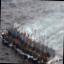fishing boat: (0, 21, 18, 45), (40, 41, 57, 64), (18, 28, 30, 52), (30, 36, 40, 58)
